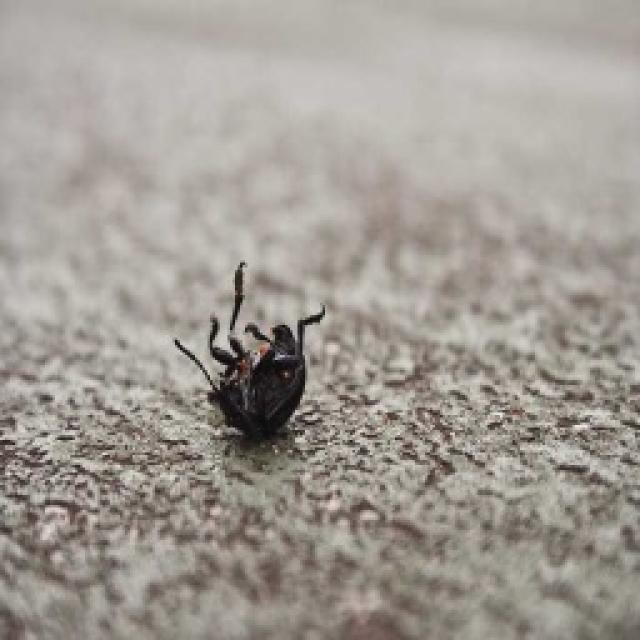cockroach: (170, 257, 331, 446)
